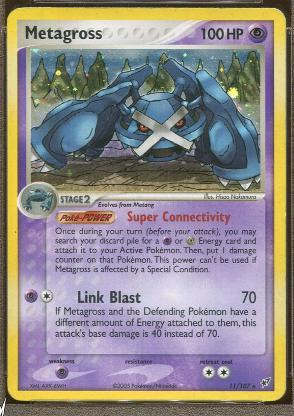Card: (0, 2, 289, 408)
